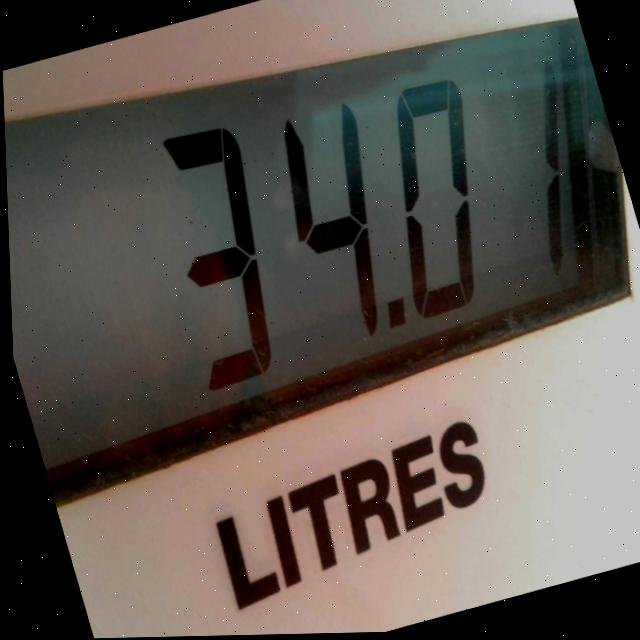.: (381, 293, 407, 327)
0: (355, 76, 516, 321)
1: (502, 53, 606, 282)
3: (134, 116, 301, 399)
4: (261, 104, 405, 342)
